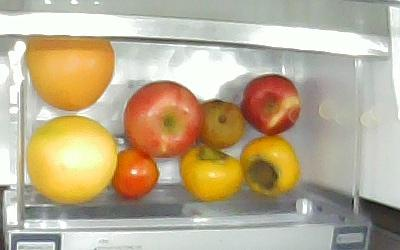apple: (123, 80, 203, 158), (242, 75, 301, 135)
grapefruit: (28, 114, 116, 204), (23, 36, 115, 110)
persimmon: (179, 143, 245, 202), (241, 135, 300, 198)
prune: (112, 148, 160, 200), (202, 99, 243, 148)
